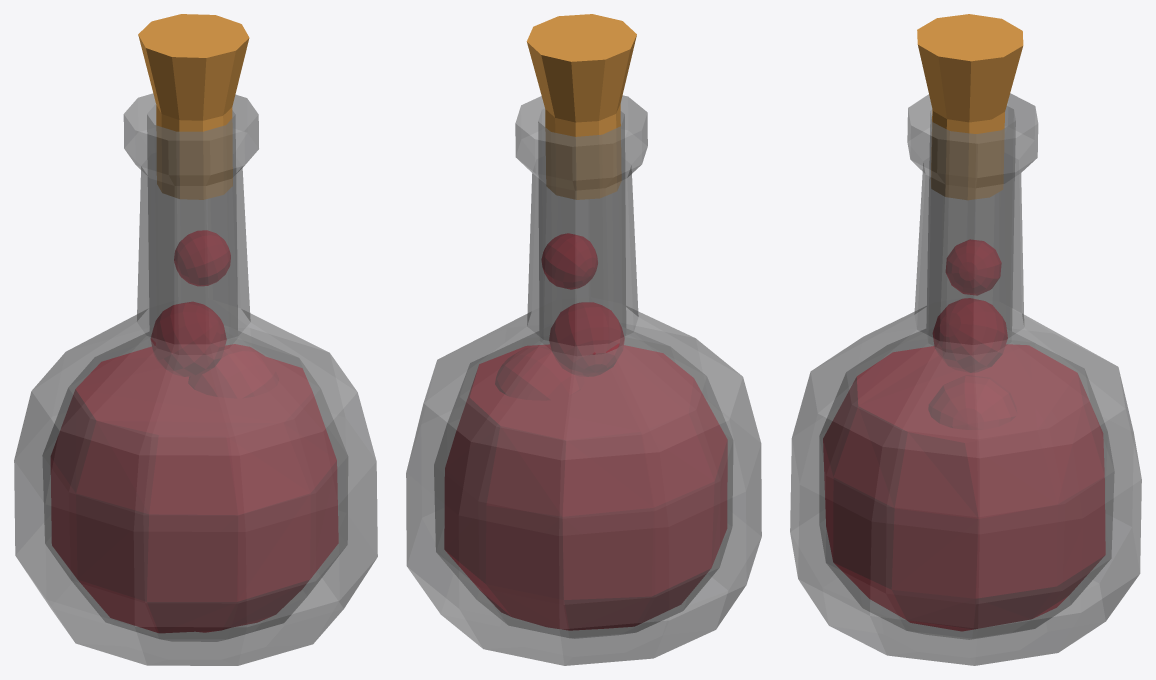
File: Health potion.fbx
3 renders of one model, left to right at view 1: azimuth 30°, elevation 25°; view 2: azimuth 150°, elevation 25°; view 3: azimuth 270°, elevation 25°, orthographic.
Visible parts, largest first — view 1: group2068853349; view 2: group2068853349; view 3: group2068853349.
Part boxes in pixels (left/top/right/bottom): group2068853349: left=14, top=14, right=377, bottom=665; group2068853349: left=406, top=14, right=761, bottom=665; group2068853349: left=790, top=14, right=1141, bottom=665.
Bounding box in the file's own units: 157 × 281 × 153.
